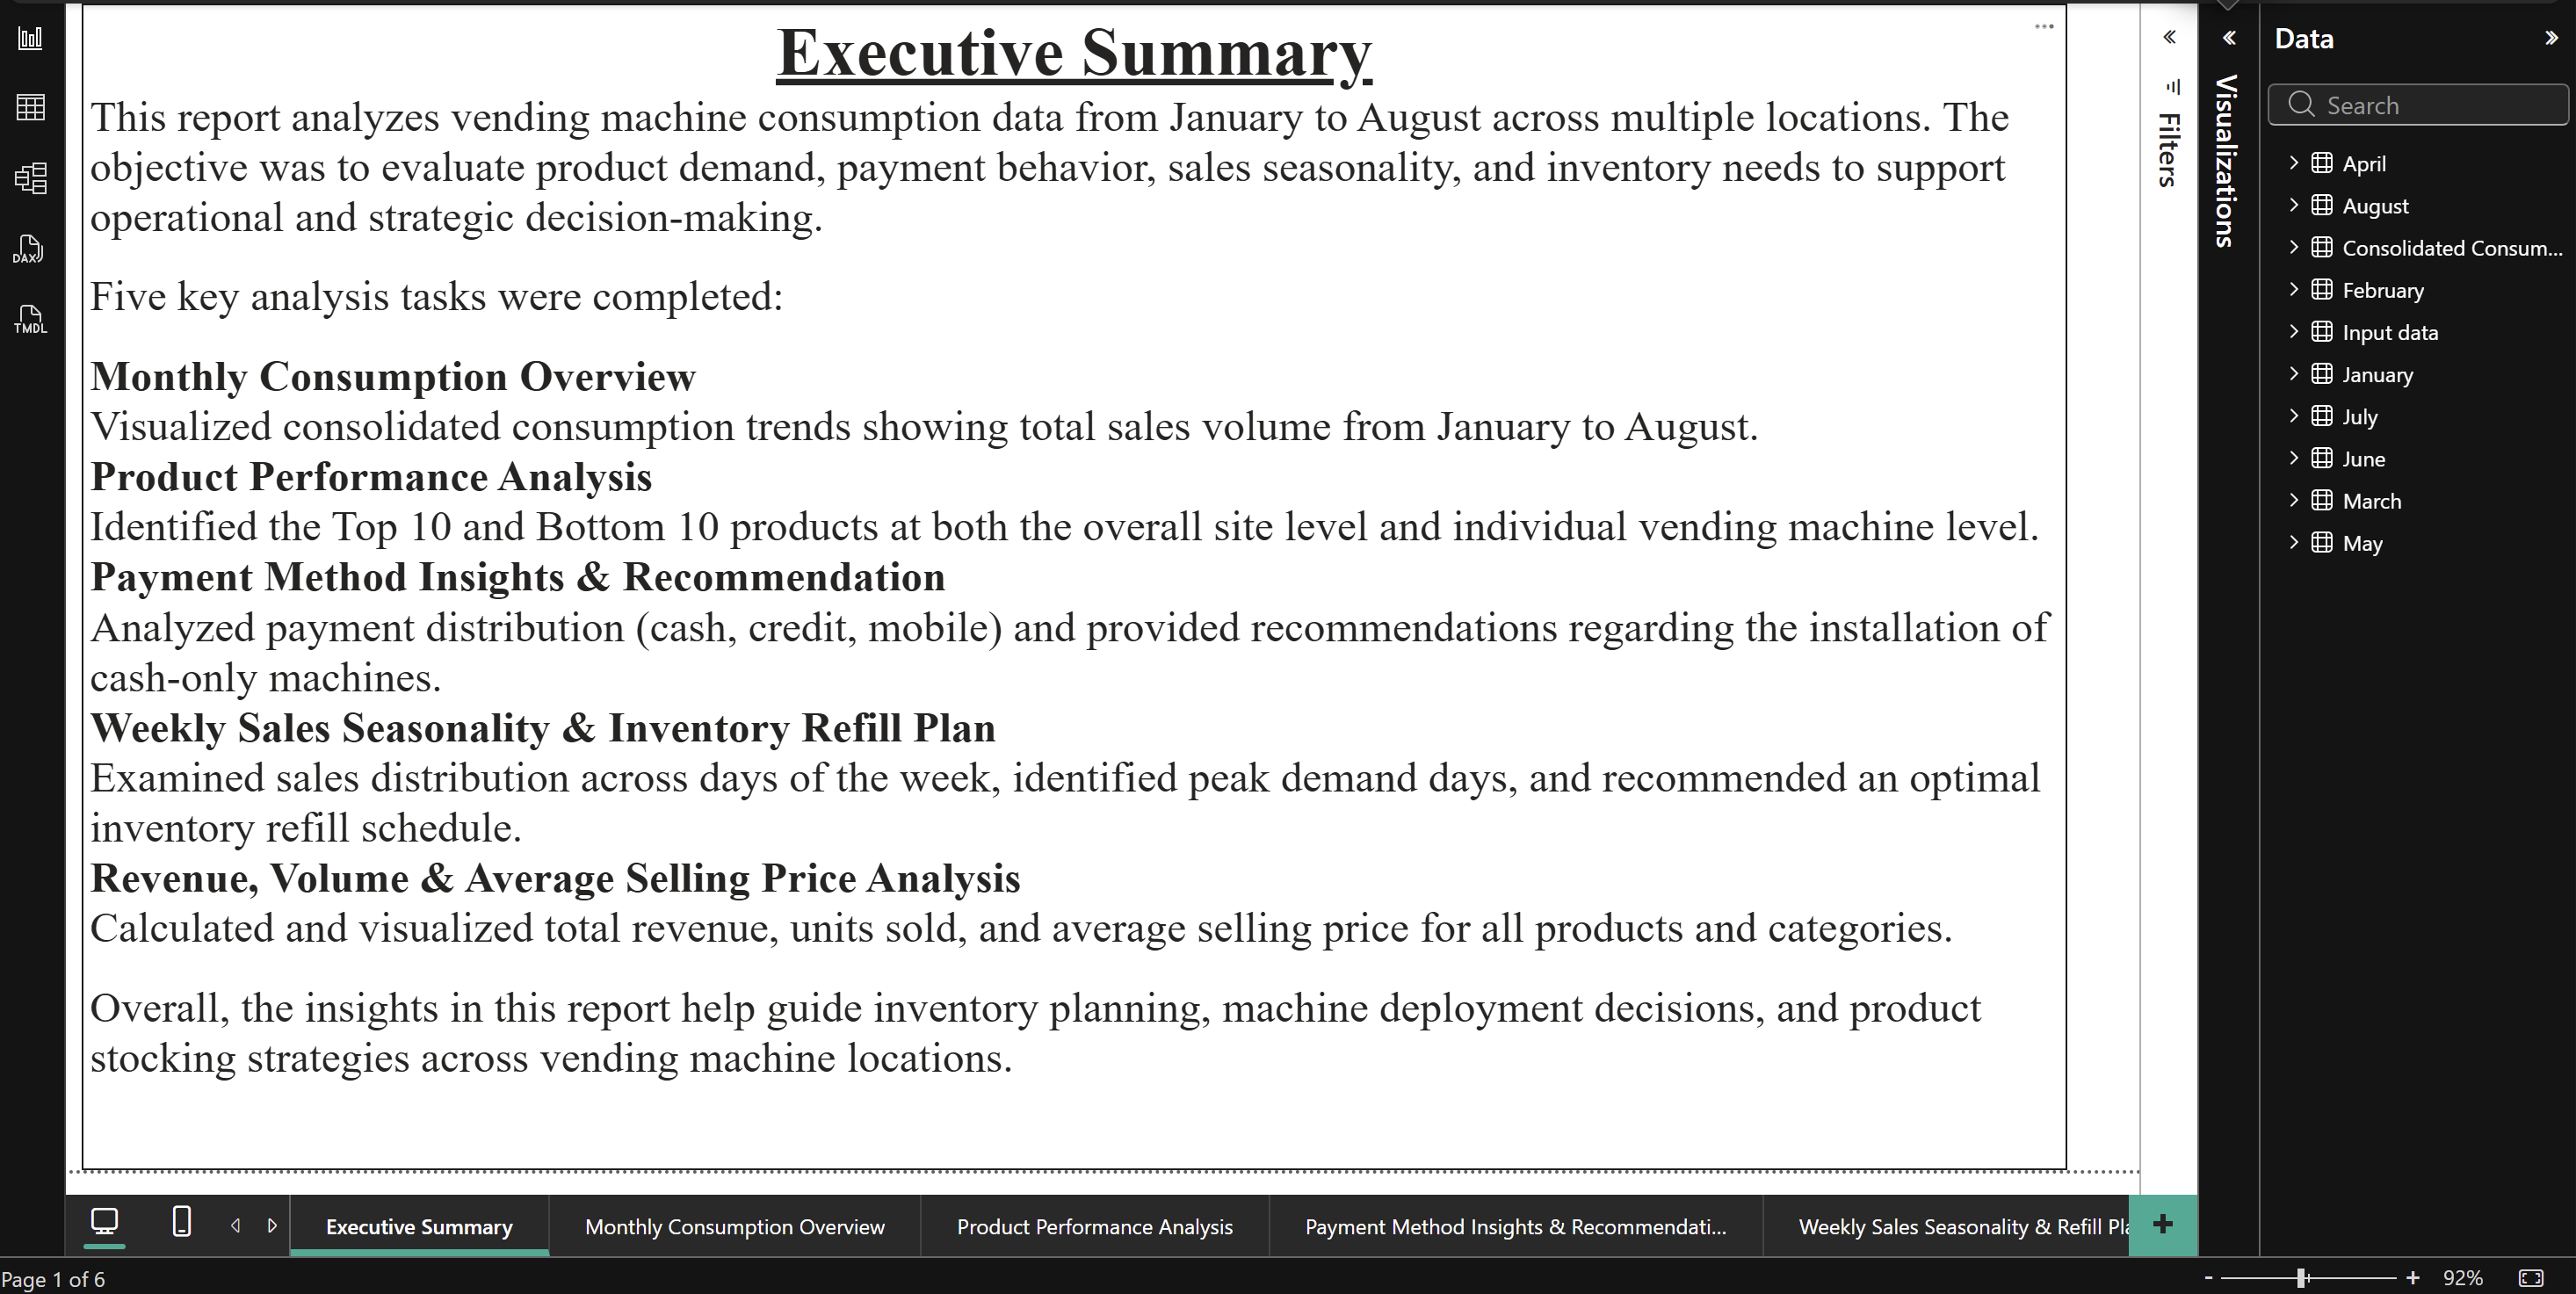

This screenshot's page, from the dashboard's own definition file:
{"tool":"powerbi","page":{"name":"Executive Summary ","canvas":[1280,720],"ordinal":0},"visuals":[{"type":"textbox","box":[9.9,0,1225.5,720.5],"z":0}]}

Visuals, with their boxes on the page's 1280x720 design canvas (x1, y1, x2, y2). These are canvas units, not pixel positions in the 2576x1294 screenshot, which may show the page scaled, cropped or inside an application window:
textbox: left=10, top=0, right=1235, bottom=720
